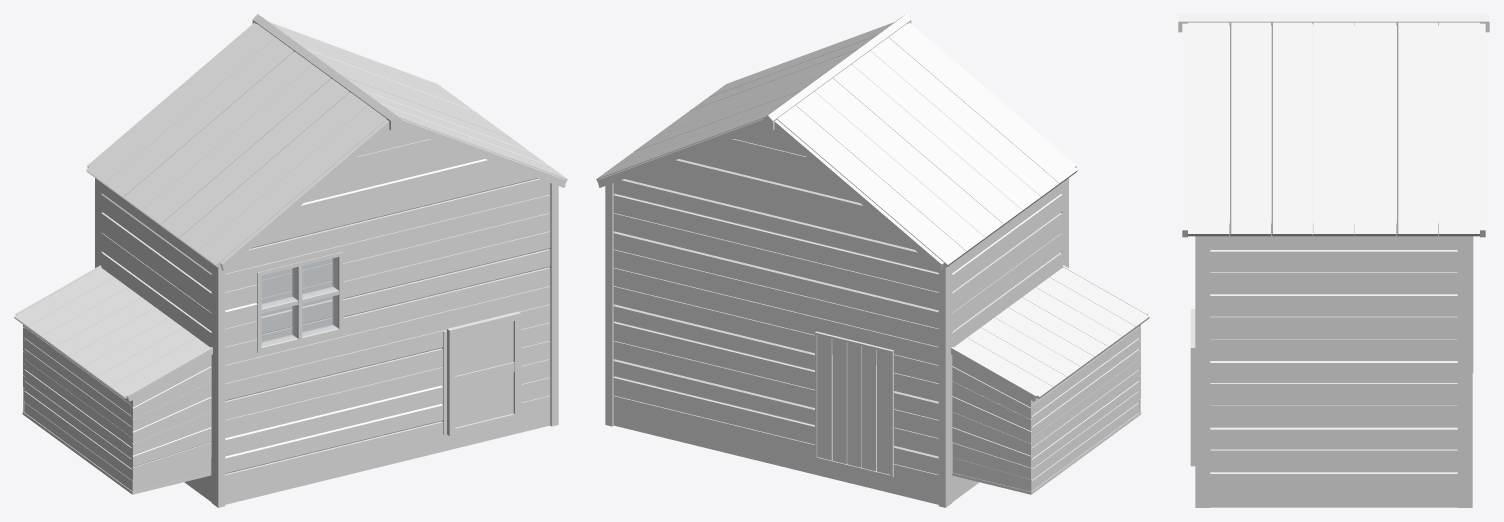
File: Bld_Chicken_Coop_02.glb
The picture shows the model from 3 angles, left to right: view 1: azimuth 30°, elevation 25°; view 2: azimuth 150°, elevation 25°; view 3: azimuth 270°, elevation 25°; orthographic projection. The views are drawn at different scales.
Parts seen in each view (by area): view 1: Bld_Chicken_Coop_02, Bld_Chicken_Coop_Door_Left_02, Bld_Chicken_Coop_Door_Right_02, (_ignore)_Bld_Chicken_Coop_Window_02; view 2: Bld_Chicken_Coop_02, Bld_Chicken_Coop_Door_Left_02, Bld_Chicken_Coop_Door_Middle_02; view 3: Bld_Chicken_Coop_02, Bld_Chicken_Coop_Door_Right_02.
Part boxes in pixels (x1,y1,x2,y2): Bld_Chicken_Coop_02: [22, 14, 567, 507]; Bld_Chicken_Coop_Door_Left_02: [14, 265, 212, 401]; Bld_Chicken_Coop_Door_Right_02: [447, 311, 520, 435]; (_ignore)_Bld_Chicken_Coop_Window_02: [262, 257, 337, 346]; Bld_Chicken_Coop_02: [596, 14, 1141, 507]; Bld_Chicken_Coop_Door_Left_02: [951, 265, 1149, 401]; Bld_Chicken_Coop_Door_Middle_02: [815, 331, 894, 477]; Bld_Chicken_Coop_02: [1178, 14, 1489, 507]; Bld_Chicken_Coop_Door_Right_02: [1190, 309, 1195, 466].
Size of the model in its own units: 1.82 by 1.43 by 1.01.
Materials: 2 (1 with a texture image).
